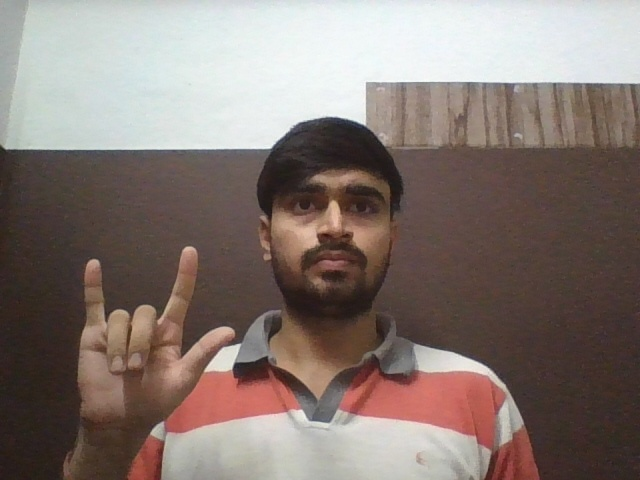I Love You: (77, 246, 237, 427)
